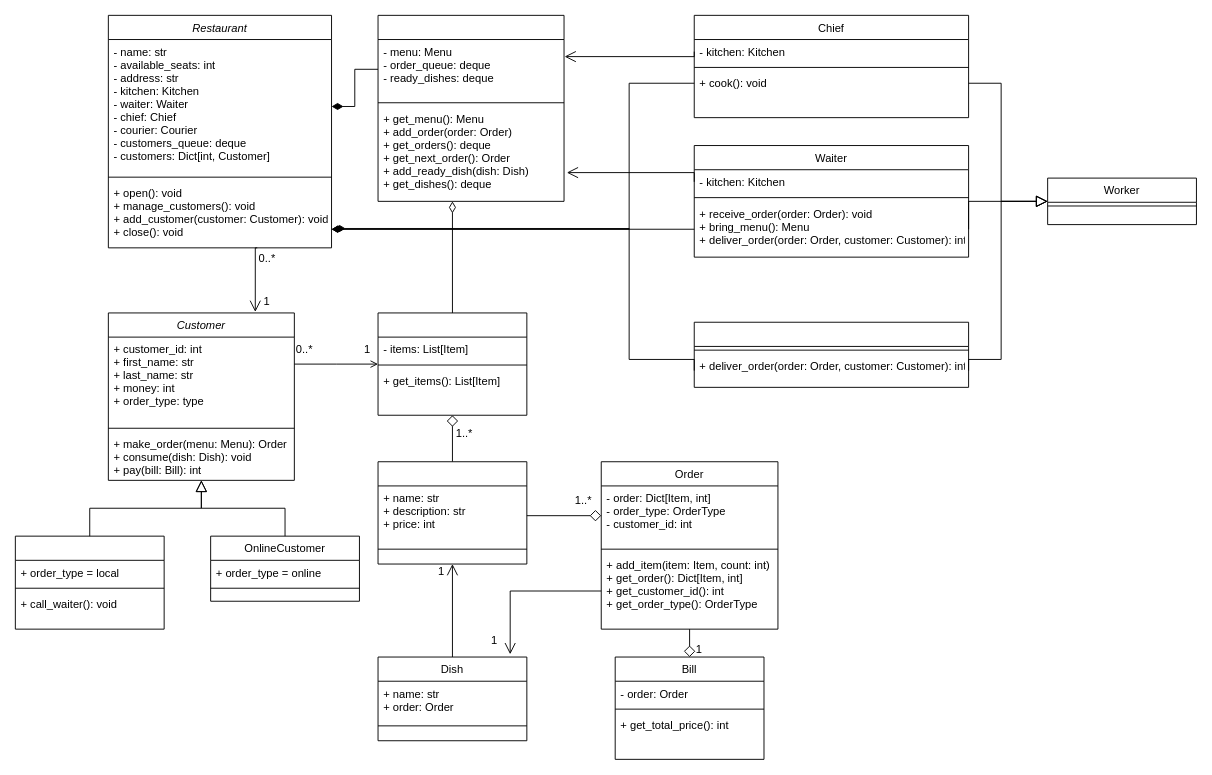
This 1212x775 diagram has some shape labels left out. Each missing label, with the box of its shape:
Courier: (693, 321, 969, 387)
Item: (377, 461, 527, 564)
Kitchen: (377, 14, 564, 201)
Menu: (377, 312, 527, 415)
Visitor: (14, 535, 164, 629)
